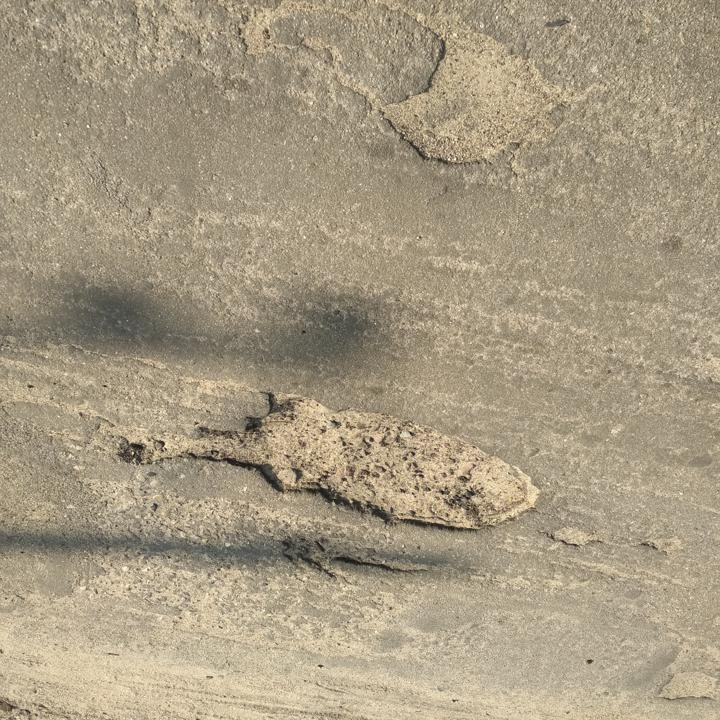pothole: (112, 388, 545, 538), (376, 8, 547, 169), (277, 531, 437, 583), (652, 667, 719, 708), (547, 526, 602, 552)
